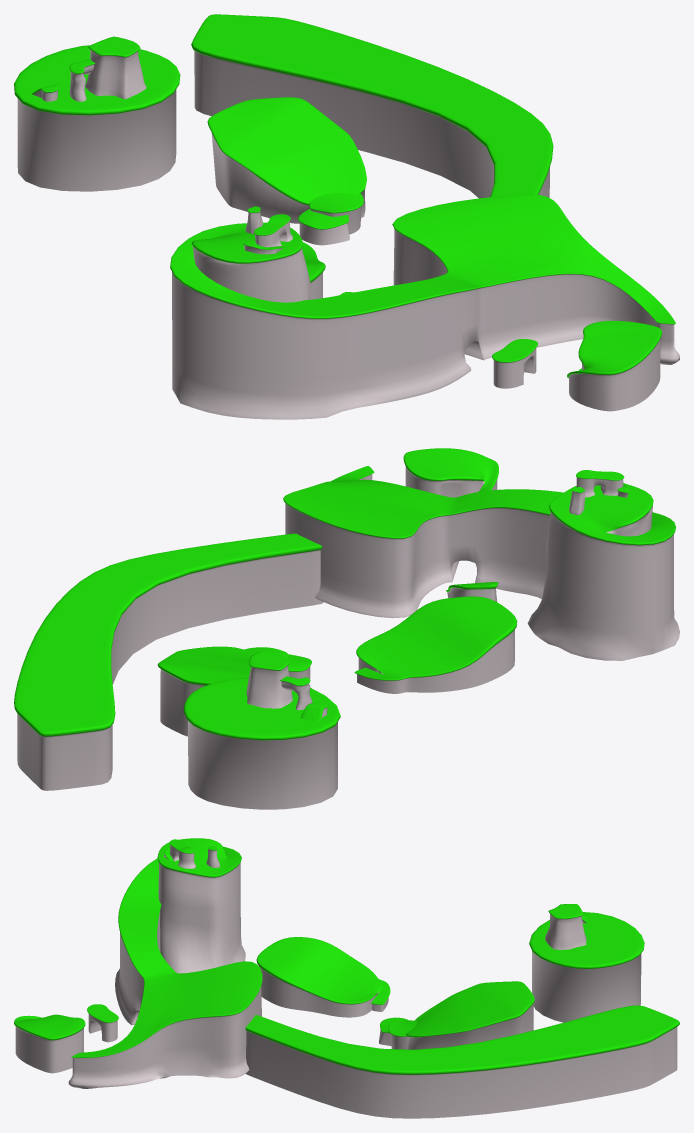
Rendered from PlatformMainTest.fbx.
The picture shows the model from 3 angles, top to bottom: view 1: azimuth 30°, elevation 25°; view 2: azimuth 150°, elevation 25°; view 3: azimuth 270°, elevation 25°; orthographic projection. The views are drawn at different scales.
Parts seen in each view (by area): view 1: Cube.006; view 2: Cube.006; view 3: Cube.006.
Part boxes in pixels (bbox=[...]): Cube.006: bbox=[14, 14, 679, 419]; Cube.006: bbox=[14, 448, 679, 809]; Cube.006: bbox=[14, 838, 679, 1118].
Bounding box in the file's own units: 25741 × 8364 × 39998.
